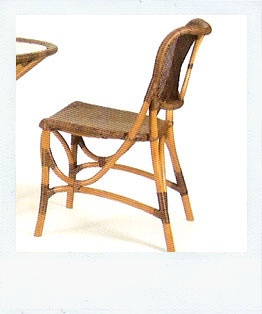obstacle: (34, 18, 211, 251)
